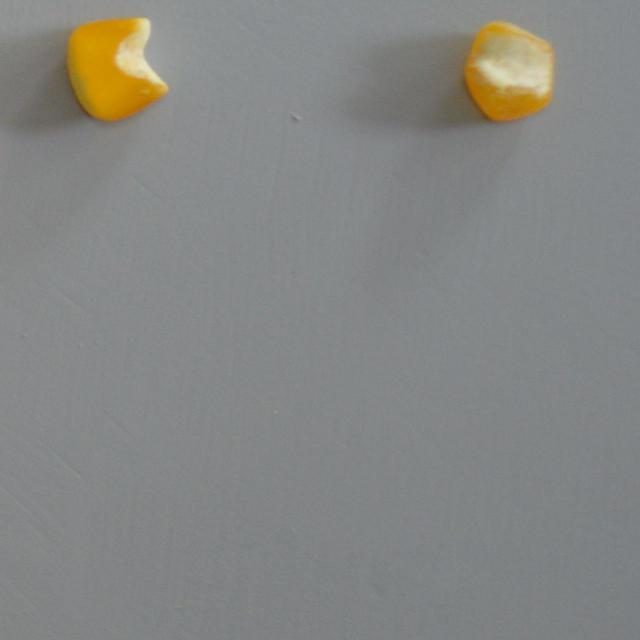no_canjicado: (66, 17, 167, 120), (463, 18, 554, 122)
